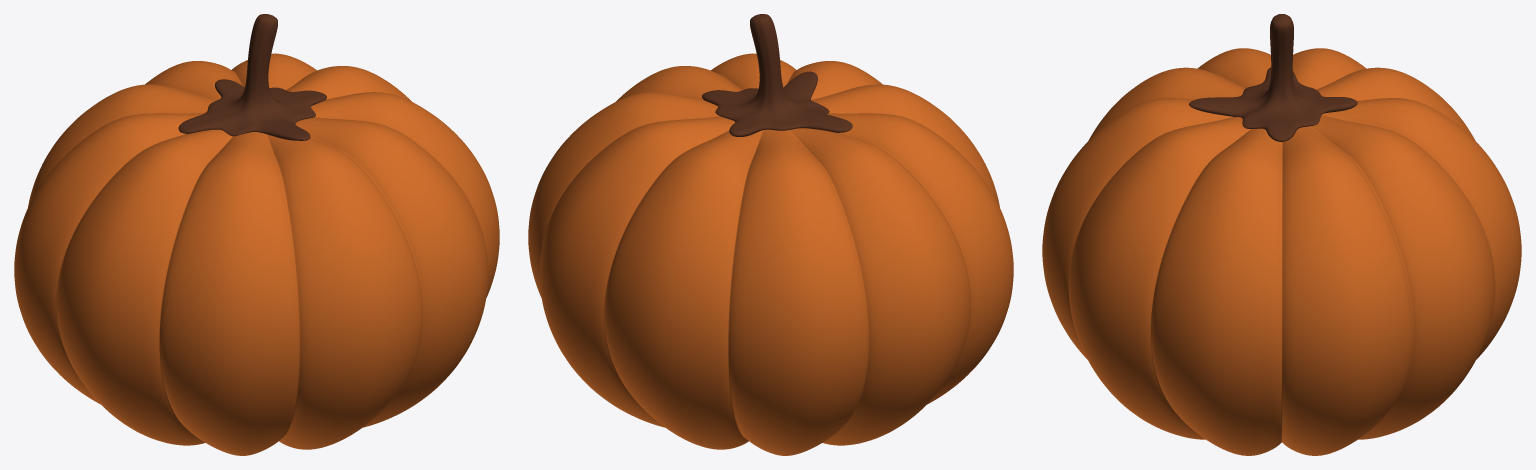
File: pumpkin.fbx
3 views of the same model, side by side, from view 1: azimuth 30°, elevation 25°; view 2: azimuth 150°, elevation 25°; view 3: azimuth 270°, elevation 25° (orthographic).
Visible parts, largest first — view 1: Sphere, Sphere.001; view 2: Sphere, Sphere.001; view 3: Sphere, Sphere.001.
Part boxes in pixels (x1,y1,x2,y2): Sphere: (14,53,499,455); Sphere.001: (178,14,326,140); Sphere: (528,53,1013,455); Sphere.001: (702,14,852,136); Sphere: (1042,48,1521,455); Sphere.001: (1189,14,1357,141).
Bounding box in the file's own units: 237 × 217 × 233.
